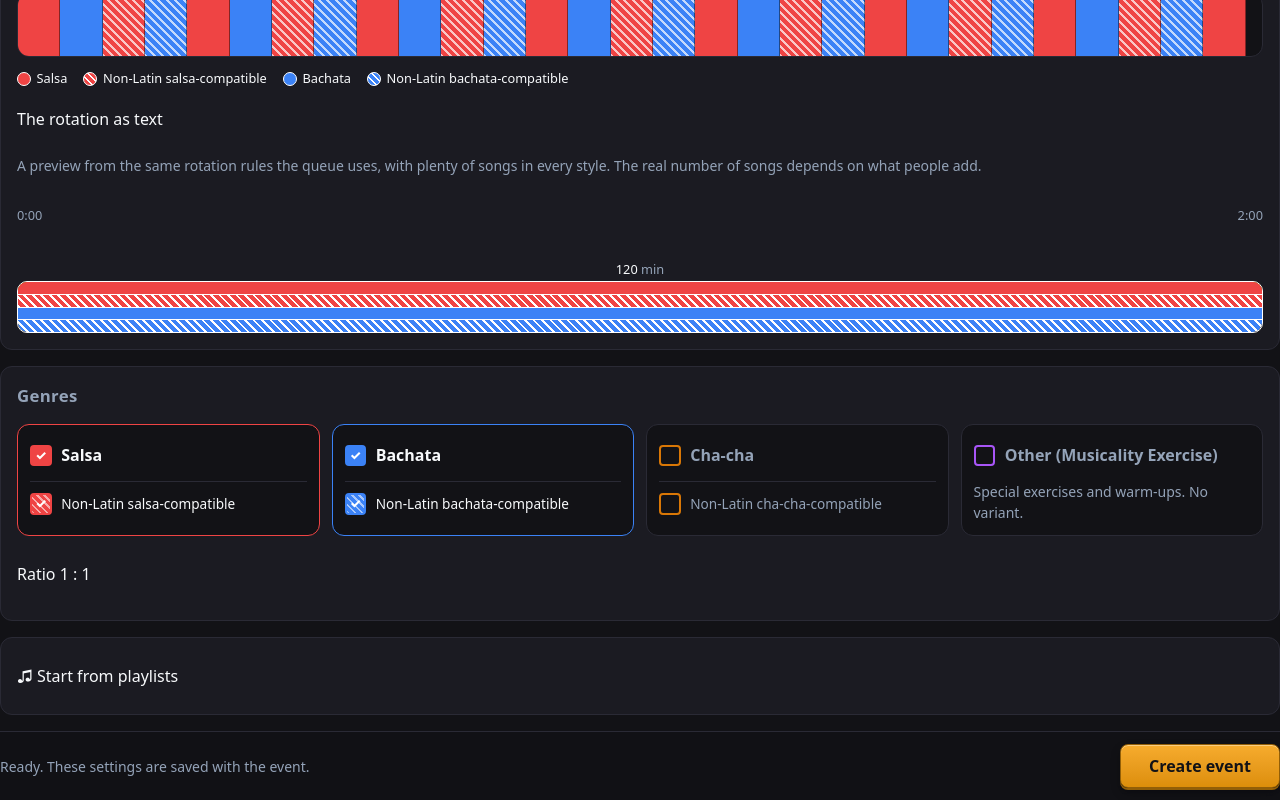
Scenario: CreateEvent › needs at least one style in every part
(page scrolled)
Step 1. Click the checkbox labelled "Salsa" → coordinates (82, 455), box [30, 433, 306, 477]
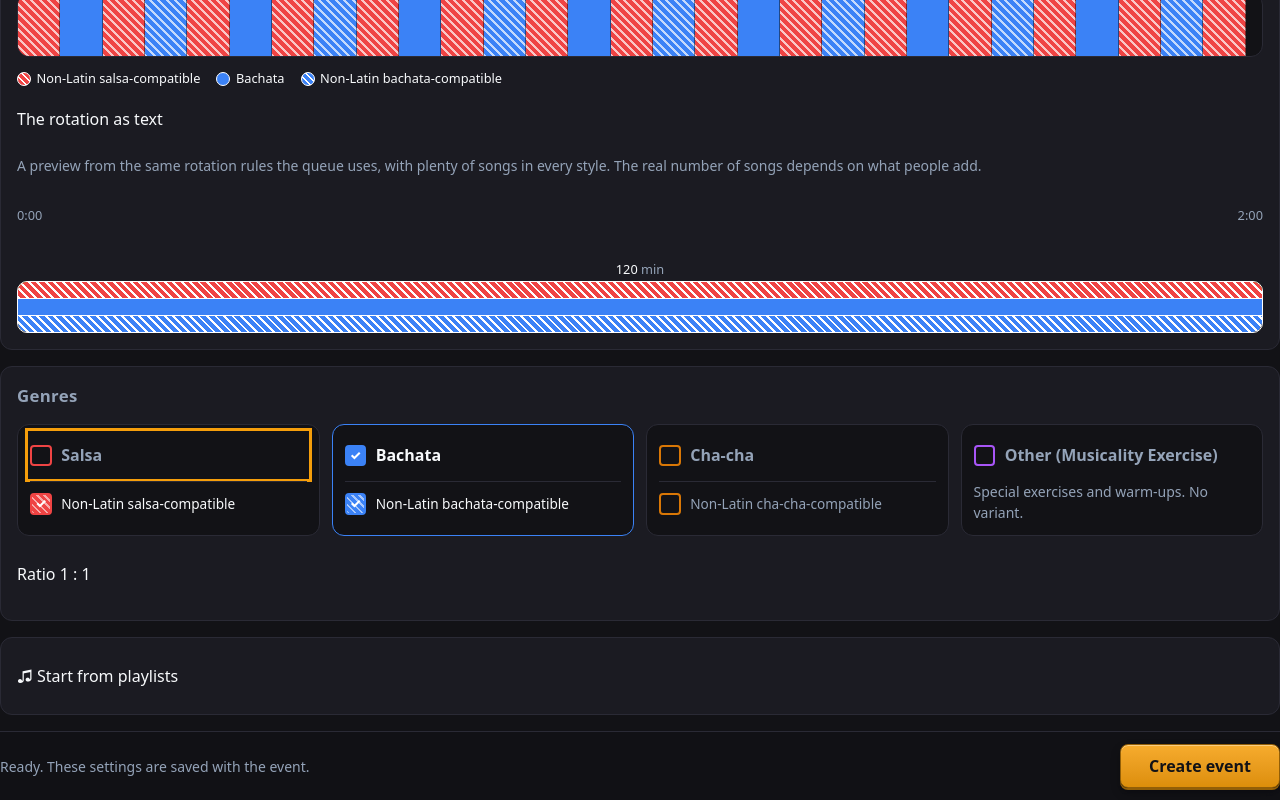
Step 2. Click the checkbox labelled "Non-Latin salsa-compatible" → coordinates (168, 503), box [30, 481, 306, 525]
(page scrolled)
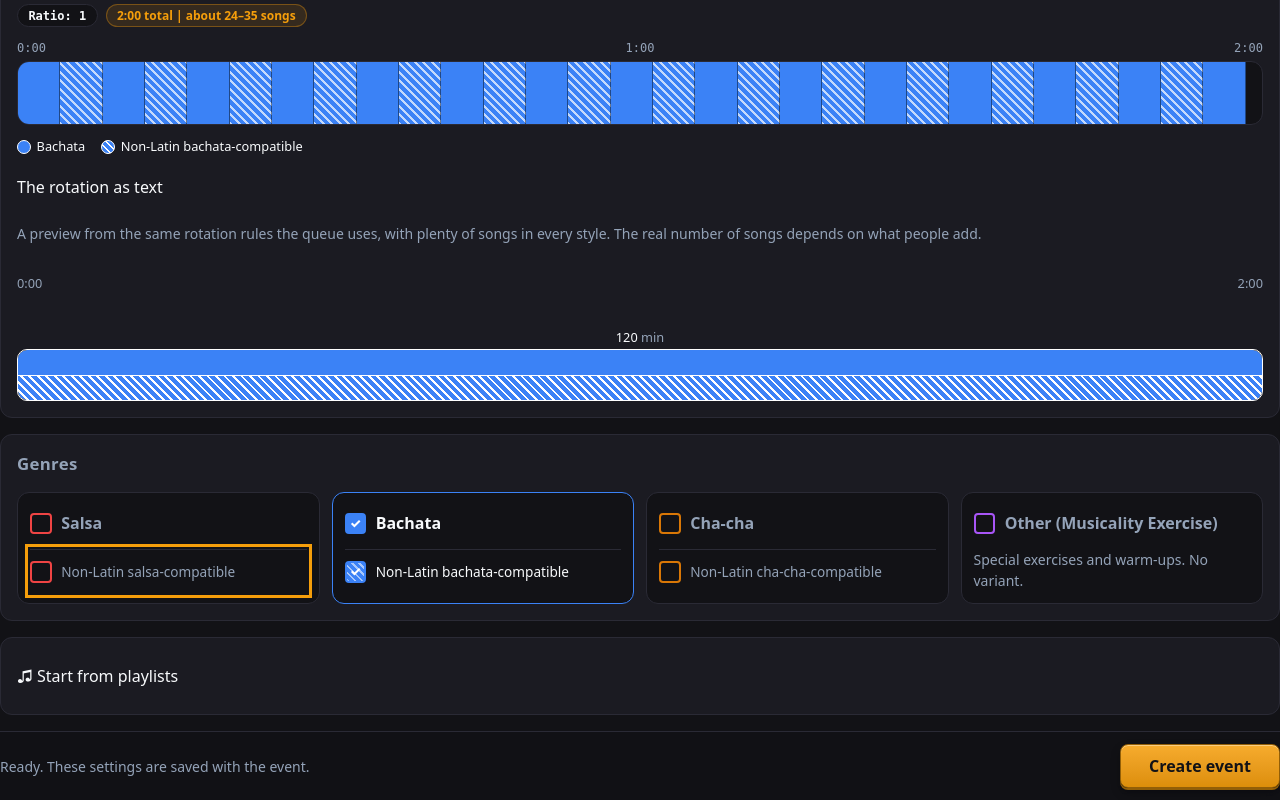
Step 3. Click the checkbox labelled "Bachata" → coordinates (408, 523), box [344, 501, 621, 545]
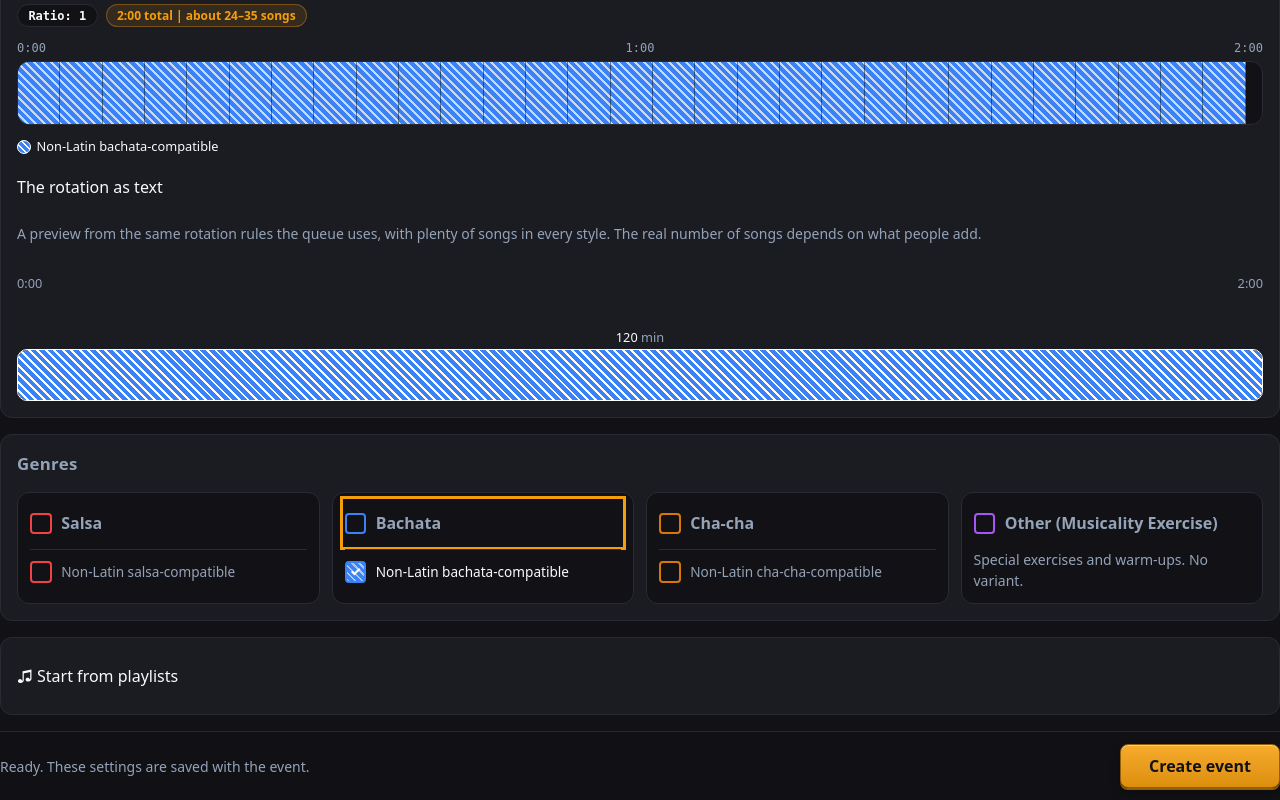
Step 4. Click the checkbox labelled "Non-Latin bachata-compatible" → coordinates (483, 571), box [344, 549, 621, 593]
(page scrolled)
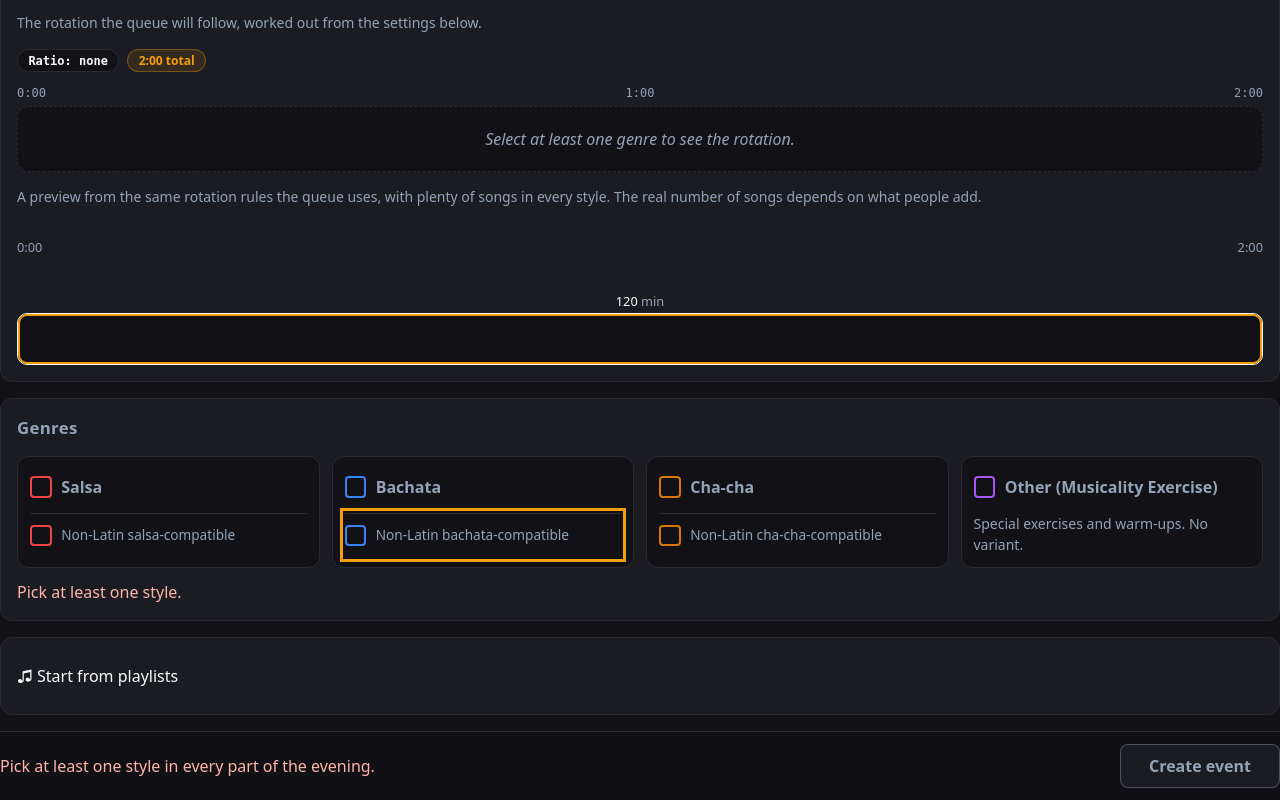
Result: the text "Pick at least one style." is shown at [17, 581, 182, 603]
Result: the button "Create event" is disabled at [1120, 744, 1279, 788]
